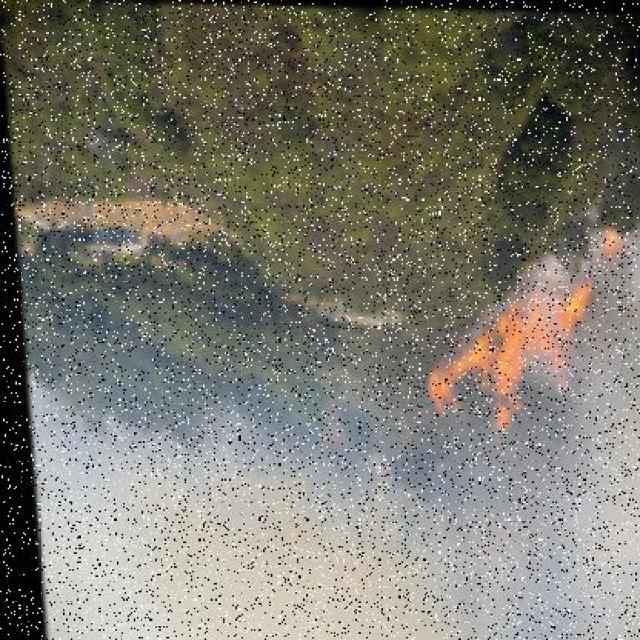fire: (412, 221, 639, 435)
